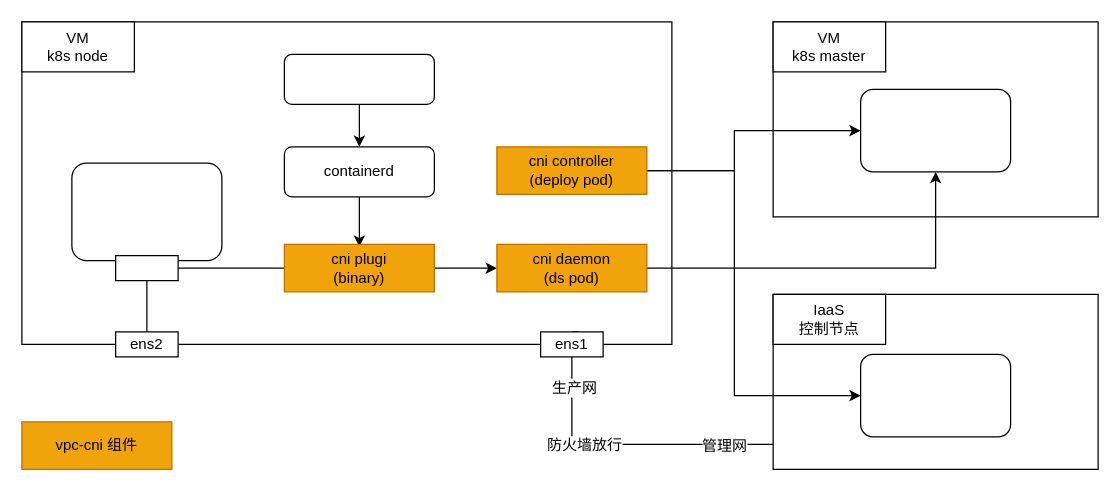
This 1120x491 diagram has some shape labels left out. The centre of each missing label's shape, as x and y in pixels:
"eth0" goes at point (146, 267).
"k8s apiserver" goes at point (935, 130).
"kubelet" goes at point (358, 78).
"pod" goes at point (146, 211).
"Proton/SDN" goes at point (935, 395).
